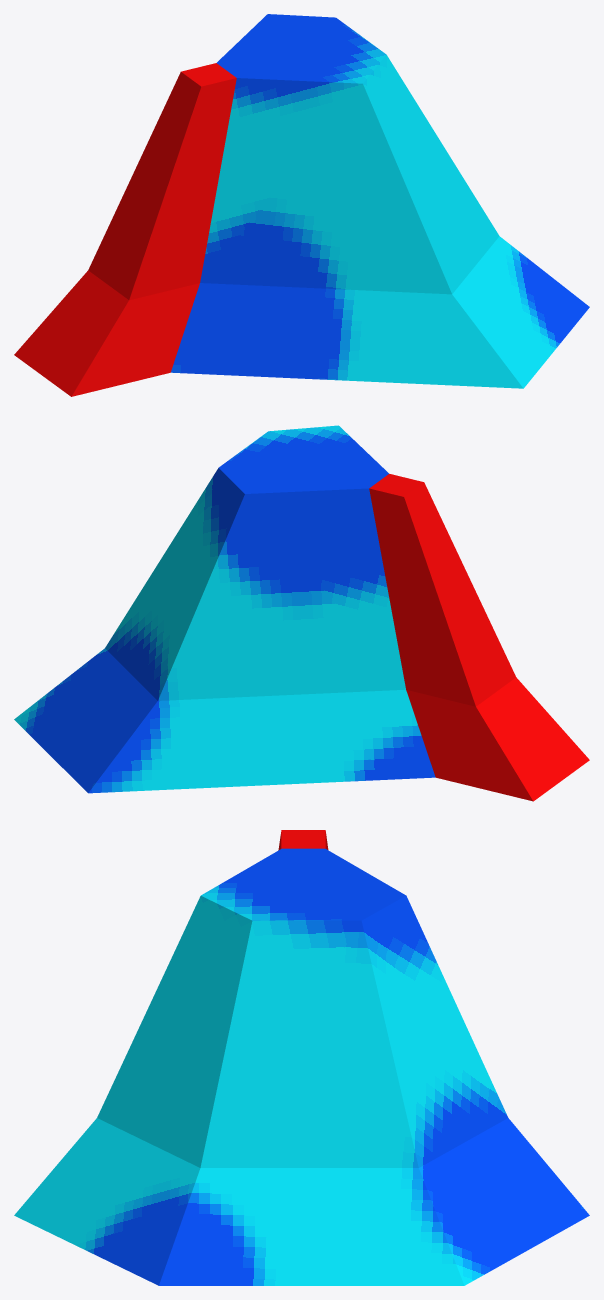
The model's file is test_csg.fbx.
3 renders of one model, top to bottom at view 1: azimuth 30°, elevation 25°; view 2: azimuth 150°, elevation 25°; view 3: azimuth 270°, elevation 25°, orthographic. The views are drawn at different scales.
Visible parts, largest first — view 1: Plane; view 2: Plane; view 3: Plane.
Part boxes in pixels (bbox=[...]): Plane: bbox=[14, 14, 589, 396]; Plane: bbox=[14, 425, 589, 801]; Plane: bbox=[14, 830, 589, 1285].
Size of the model in its own units: 37300 by 19257 by 35803.
